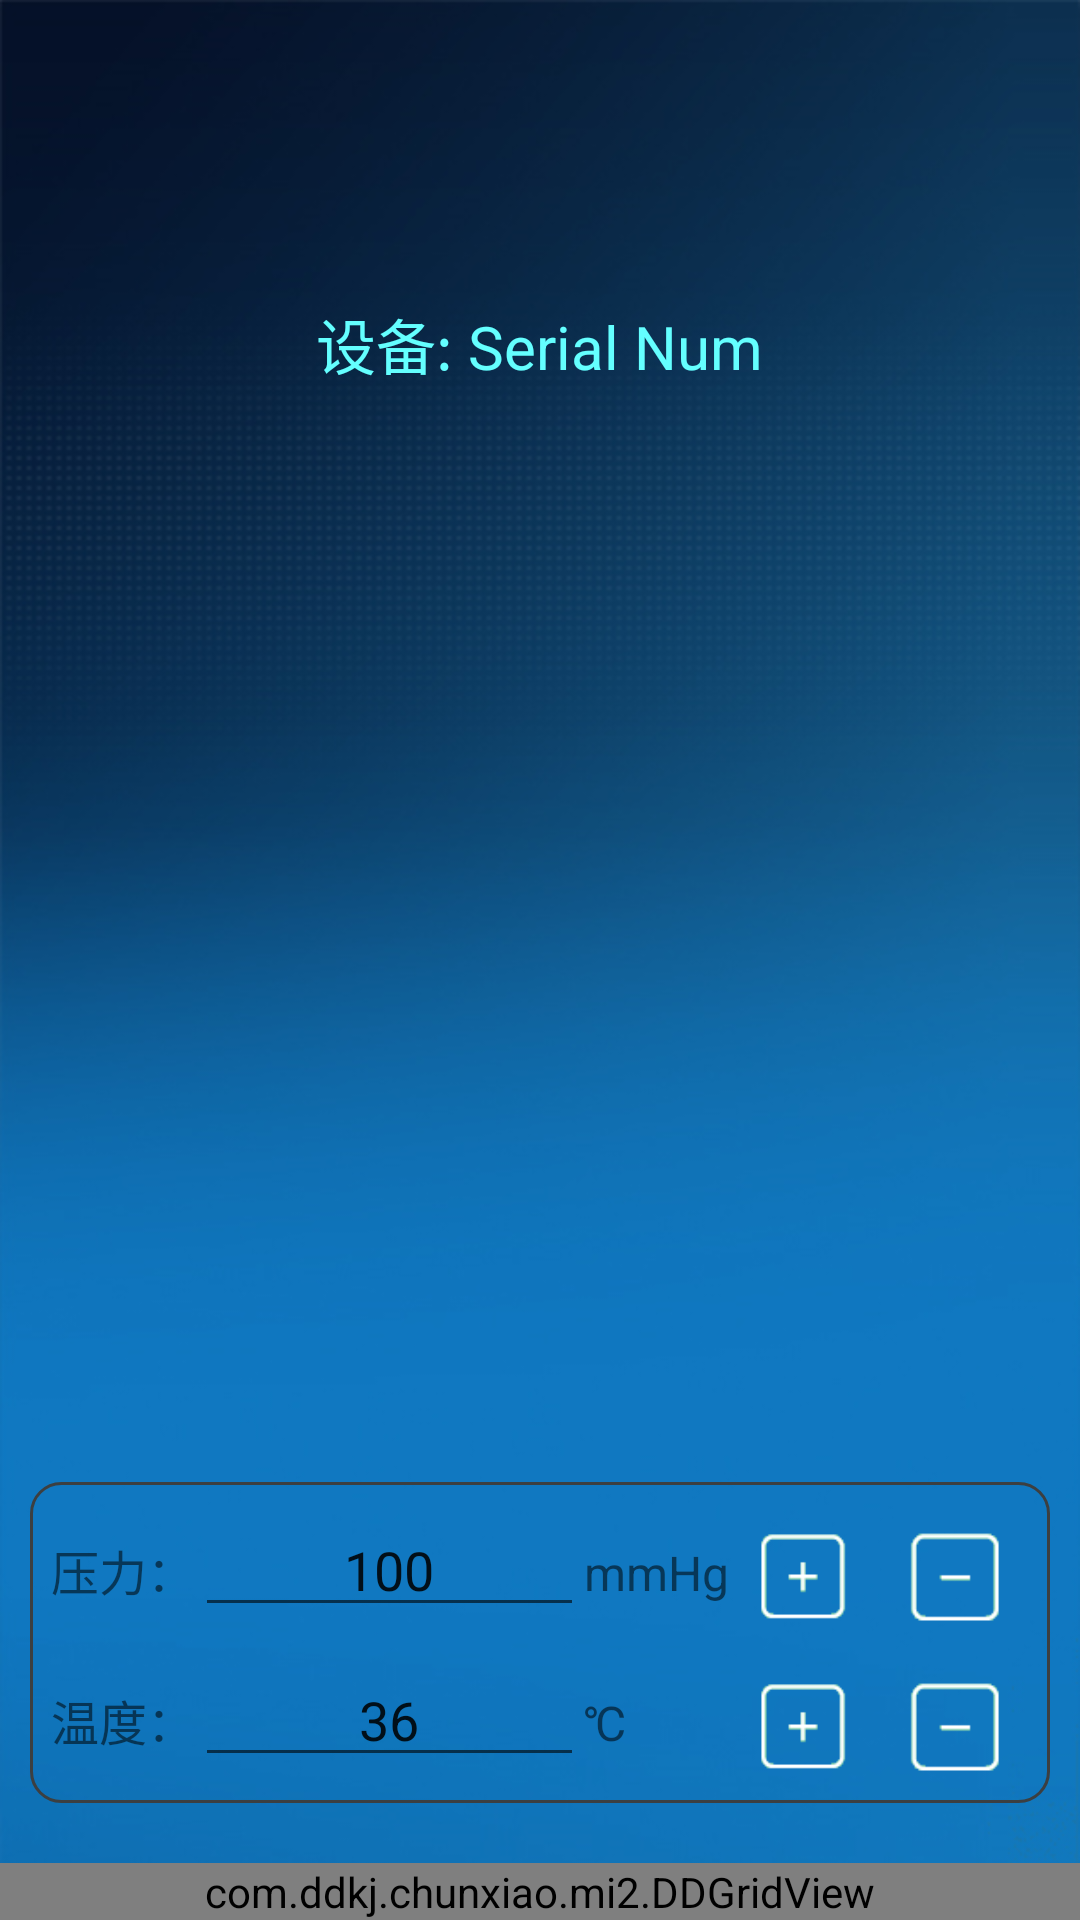

Icon click points for this 1080w x 1920h phone screenshot, format point (x, y):
minus: point (955, 1577), point (955, 1727)
plus: point (803, 1576), point (803, 1726)
